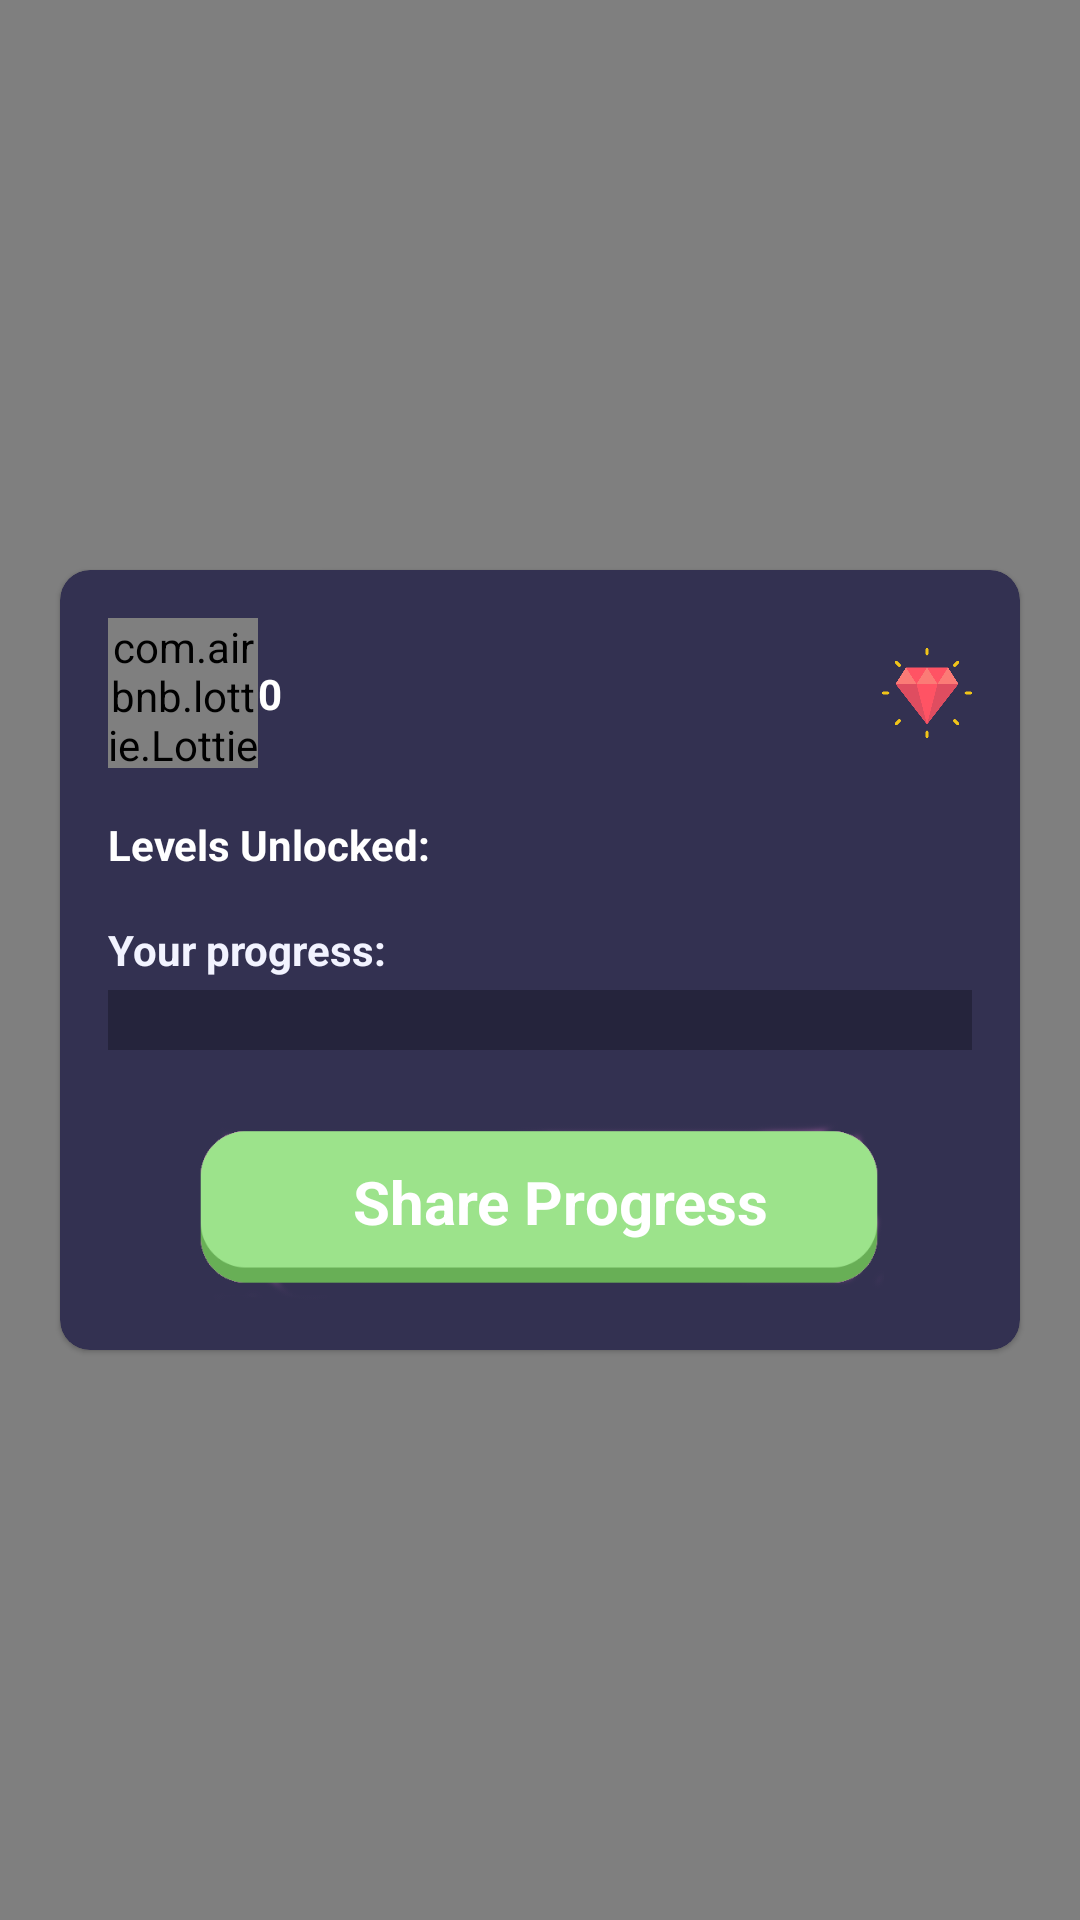

Icon click points for this 1080 x 1920 phone screenshot, format (x,y):
gem: (927,693)
